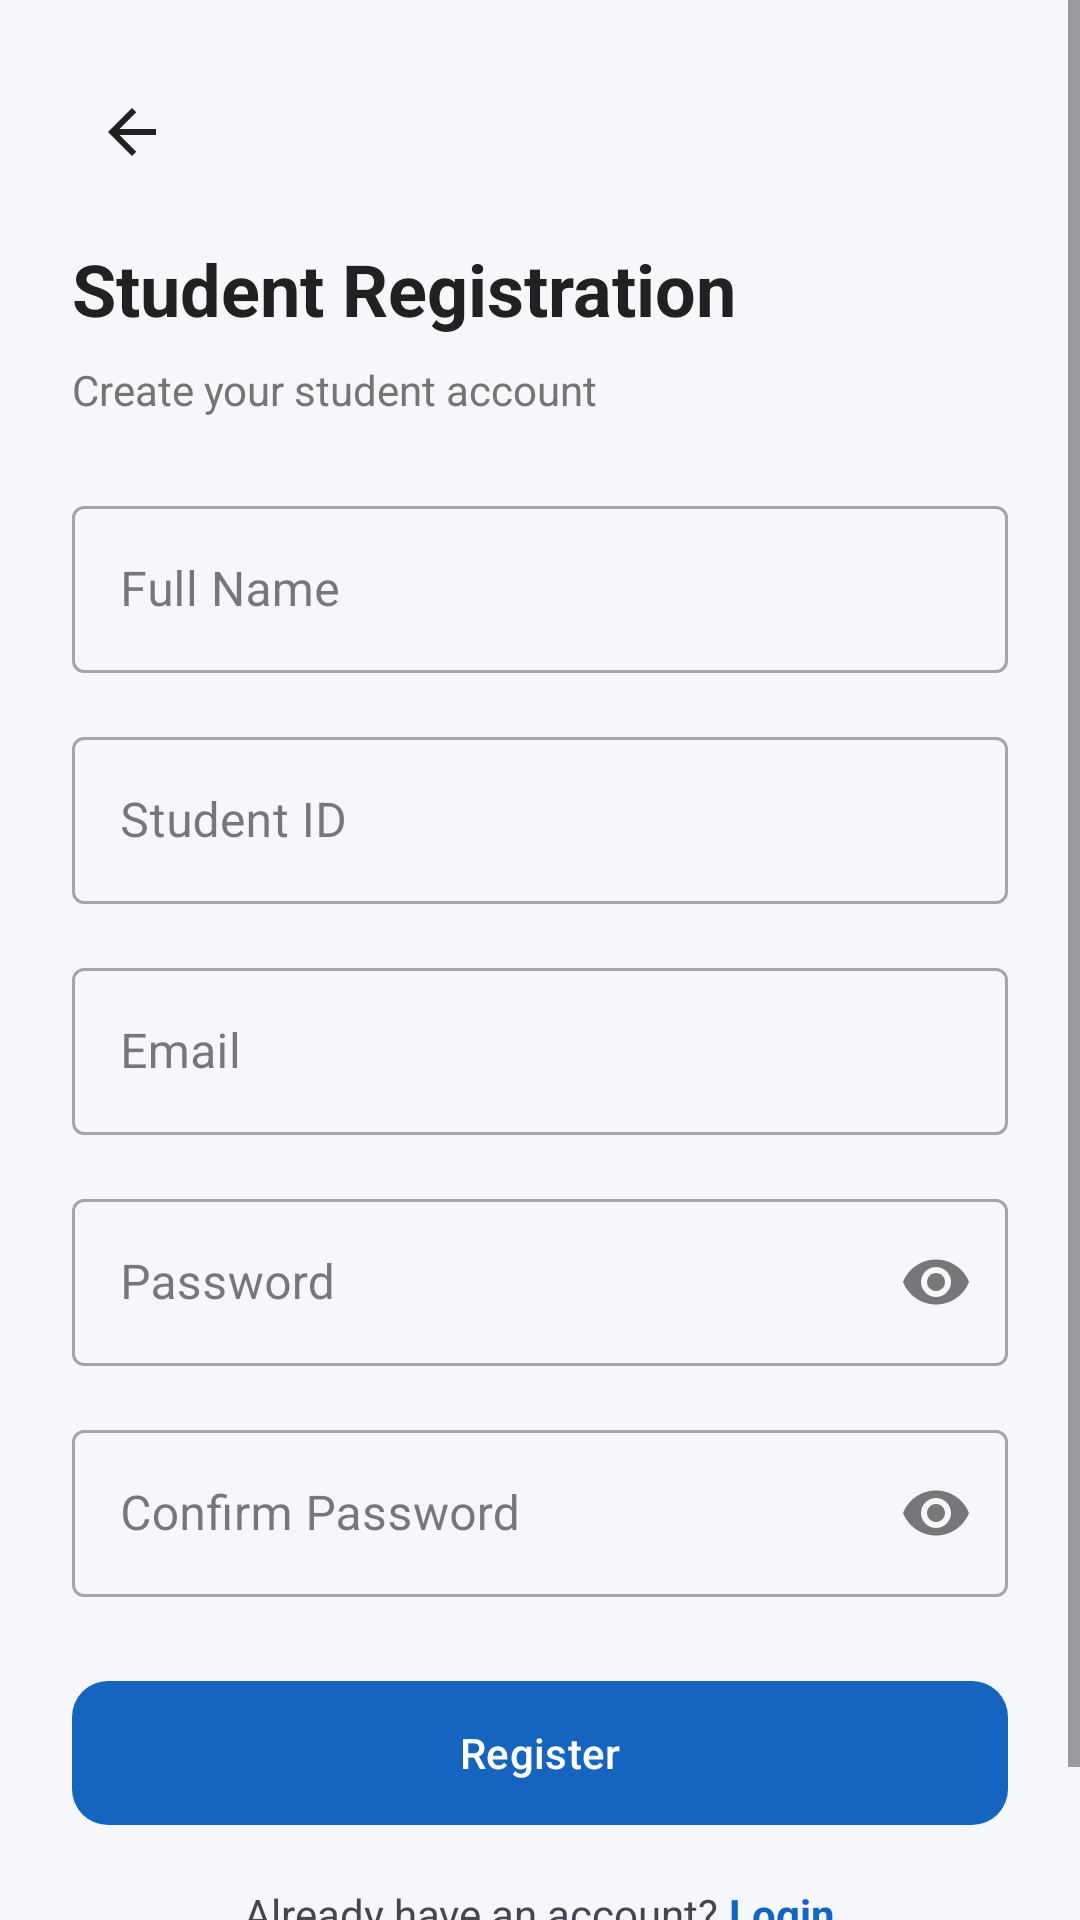

Where icons sit on this 1080w x 1920h app screen, as BBox(x1, y1, x2, y2):
back: BBox(108, 108, 156, 156)
